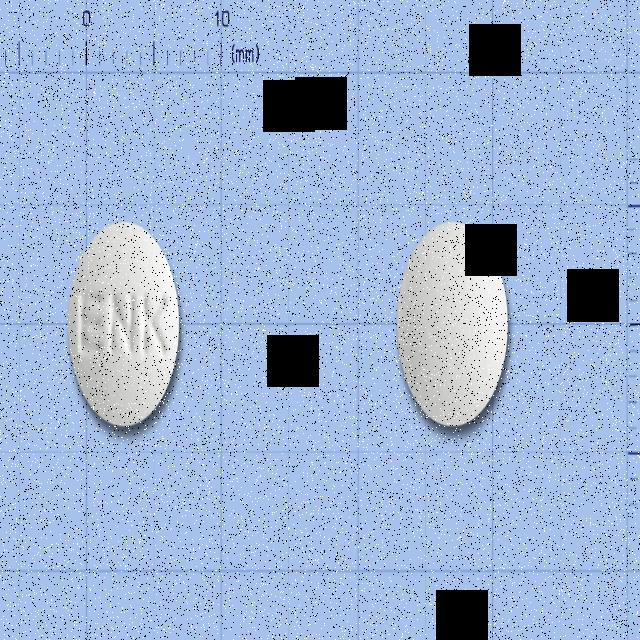Levoflo: (67, 221, 182, 426)
